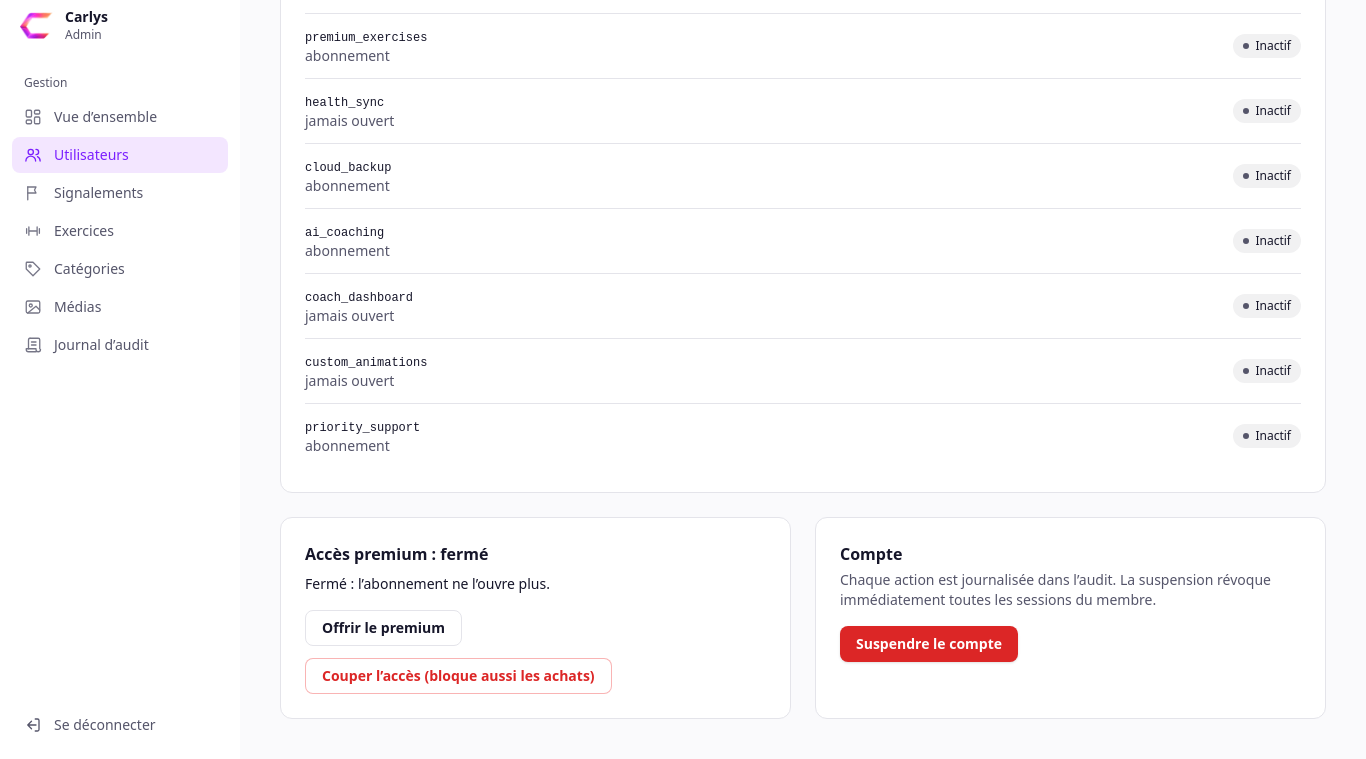
Fiche utilisateur › accès premium › un « Offrir » raté puis l’ouverture de la coupure : l’ancien échec ne reste pas affiché
(page scrolled)
What coordinates should you click on to do the following:
click the button "Offrir le premium"
I would click on:
 (384, 628)
Its box is [305,610,462,646].
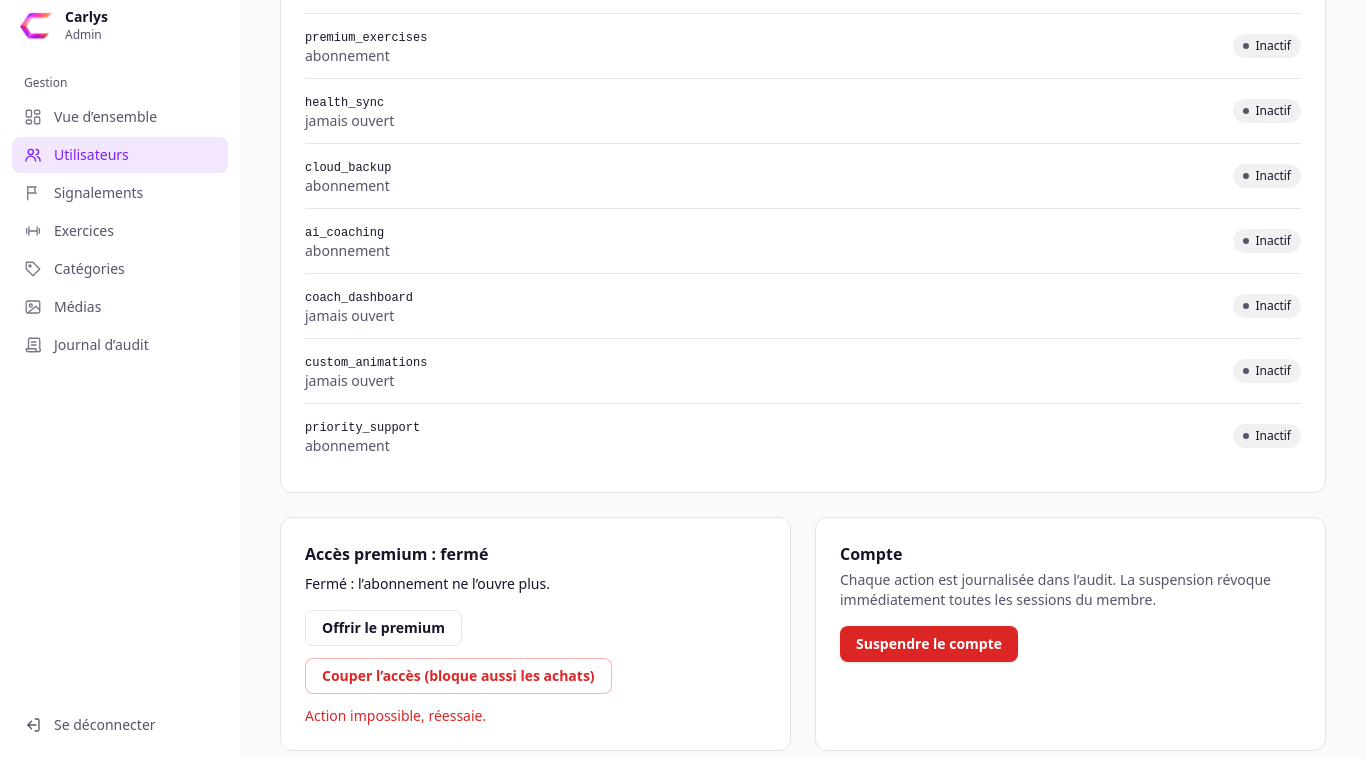
expect the message reads "Action impossible, réessaie.": met, box [305,706,486,725]
What coordinates should you click on to do the following:
click the button "Couper l’accès (bloque aussi les achats)"
I would click on:
 (458, 676)
Its box is [305,658,612,694].
(page scrolled)
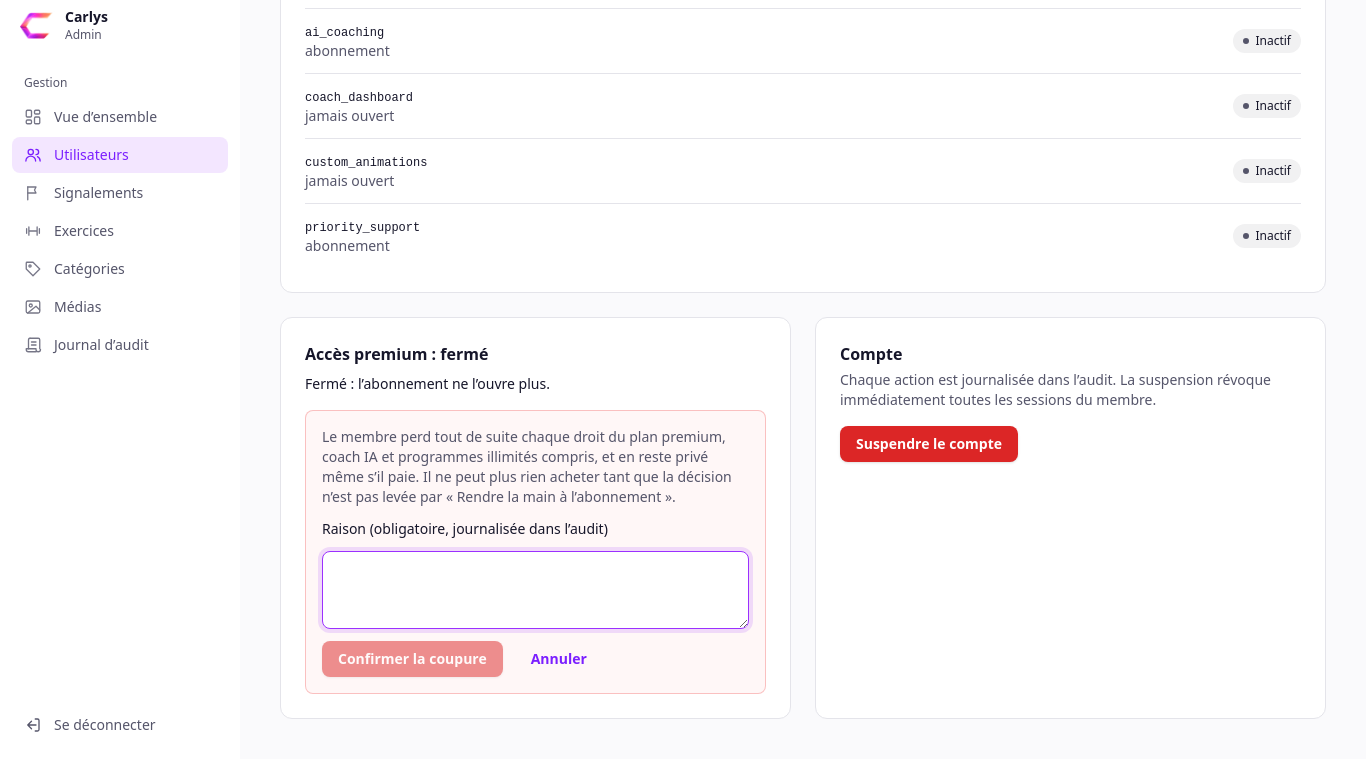
expect the message "Action impossible, réessaie." is gone: met
